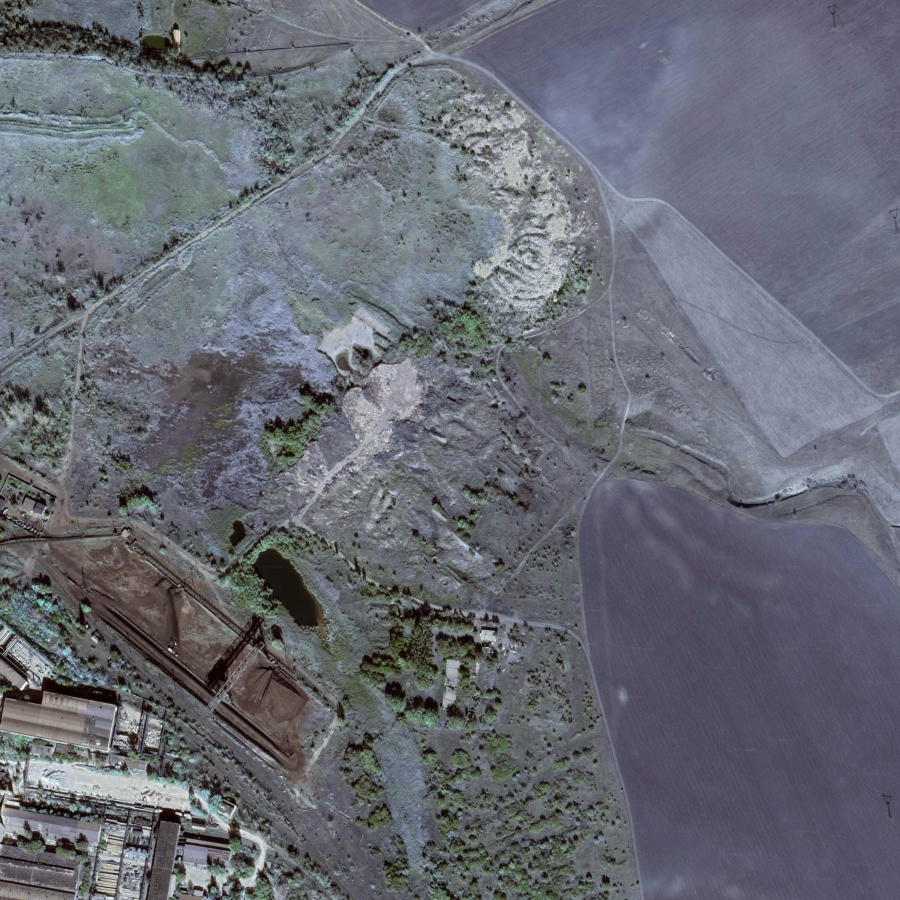PowerPlant: (24, 518, 314, 771)
